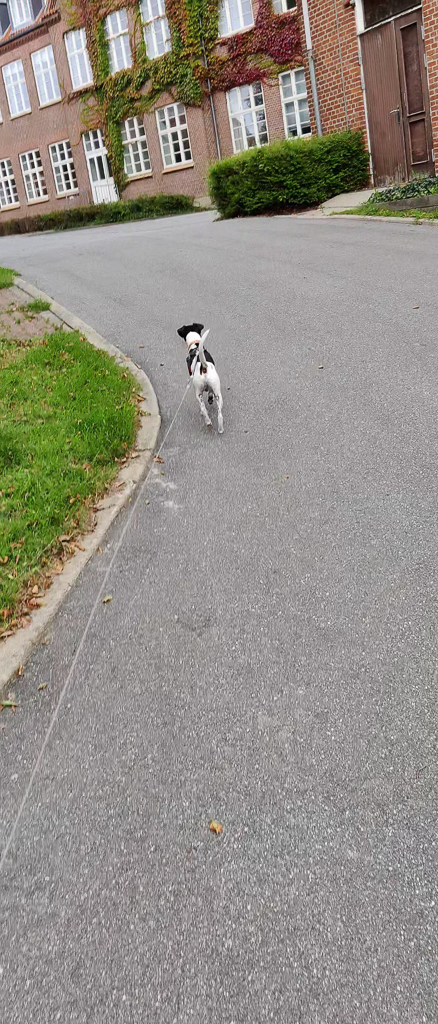Dog: (167, 317, 240, 442)
